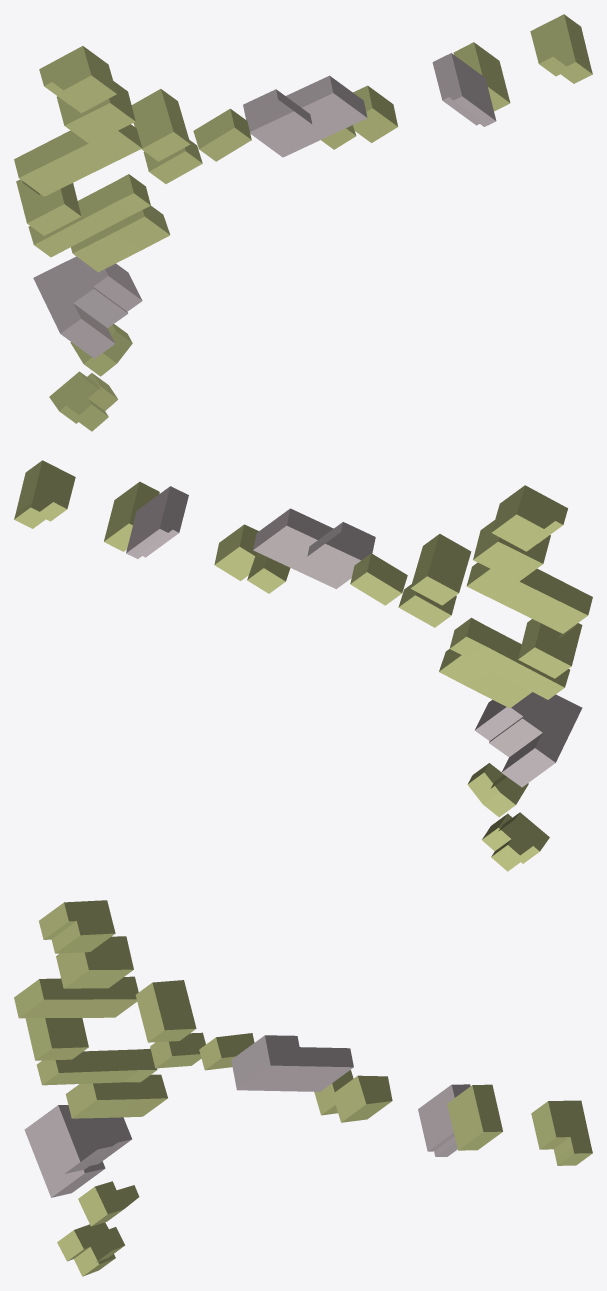
3 renders of one model, top to bottom at view 1: azimuth 30°, elevation 25°; view 2: azimuth 150°, elevation 25°; view 3: azimuth 330°, elevation 25°, orthographic.
Parts seen in each view (by area): view 1: 0_1_2_0_3_3_0; view 2: 0_1_2_0_3_3_0; view 3: 0_1_2_0_3_3_0.
Part boxes in pixels (x1=…): 0_1_2_0_3_3_0: x1=14, y1=14, x2=592, y2=431; 0_1_2_0_3_3_0: x1=14, y1=460, x2=592, y2=871; 0_1_2_0_3_3_0: x1=14, y1=900, x2=592, y2=1276.
Bounding box in the file's own units: 114 × 71.86 × 12.
